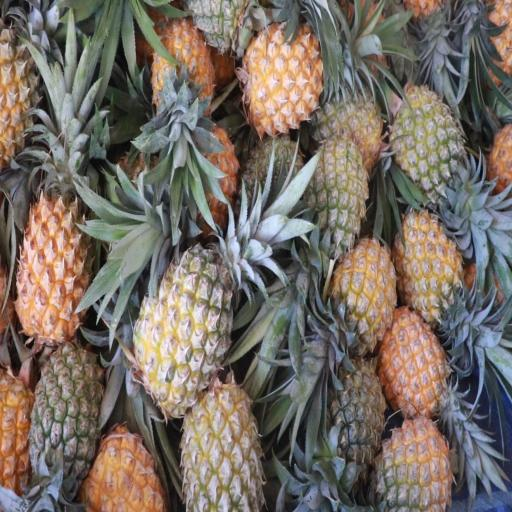------------------------------: (134, 250, 230, 410), (182, 381, 260, 512)
Pineapple - v8 v1: (18, 192, 90, 345), (0, 19, 51, 167), (243, 34, 319, 133), (394, 212, 460, 322), (380, 314, 446, 418), (334, 241, 396, 347), (155, 24, 220, 124), (87, 428, 163, 512)
